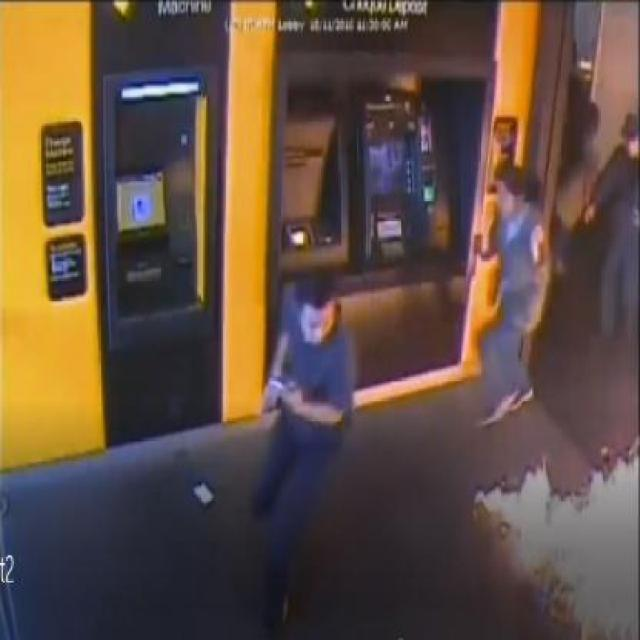Fire: (473, 451, 639, 564), (524, 568, 638, 634)
